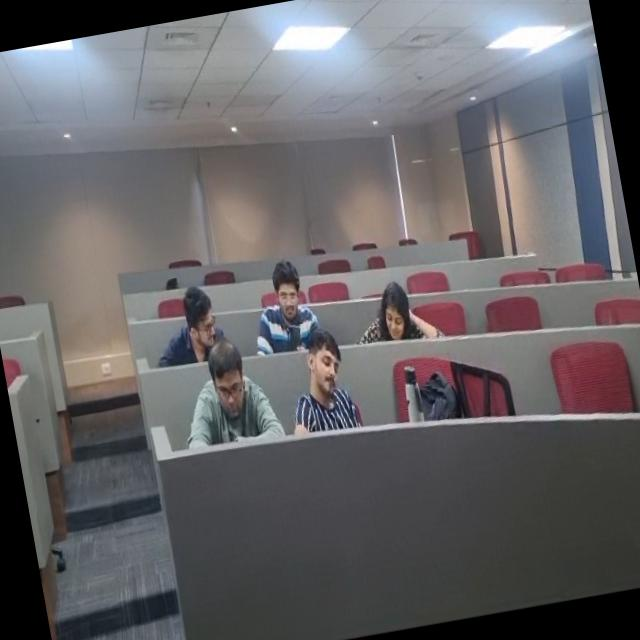cheating: (350, 264, 448, 358), (244, 260, 324, 362), (160, 280, 228, 362)
non-cheating: (188, 344, 280, 454), (286, 320, 366, 440)
